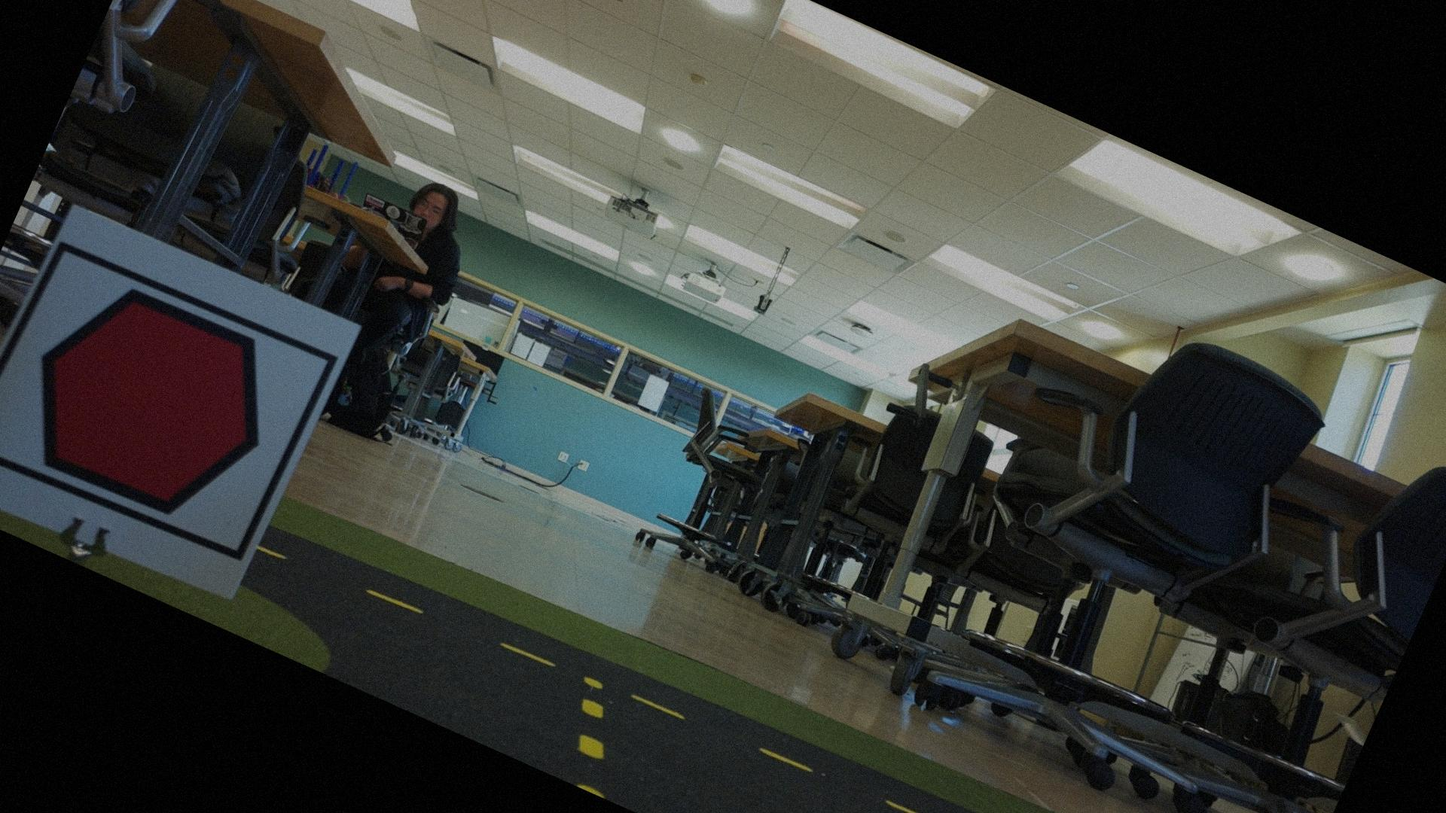stop: (0, 247, 319, 558)
yellowline: (556, 674, 629, 767)
